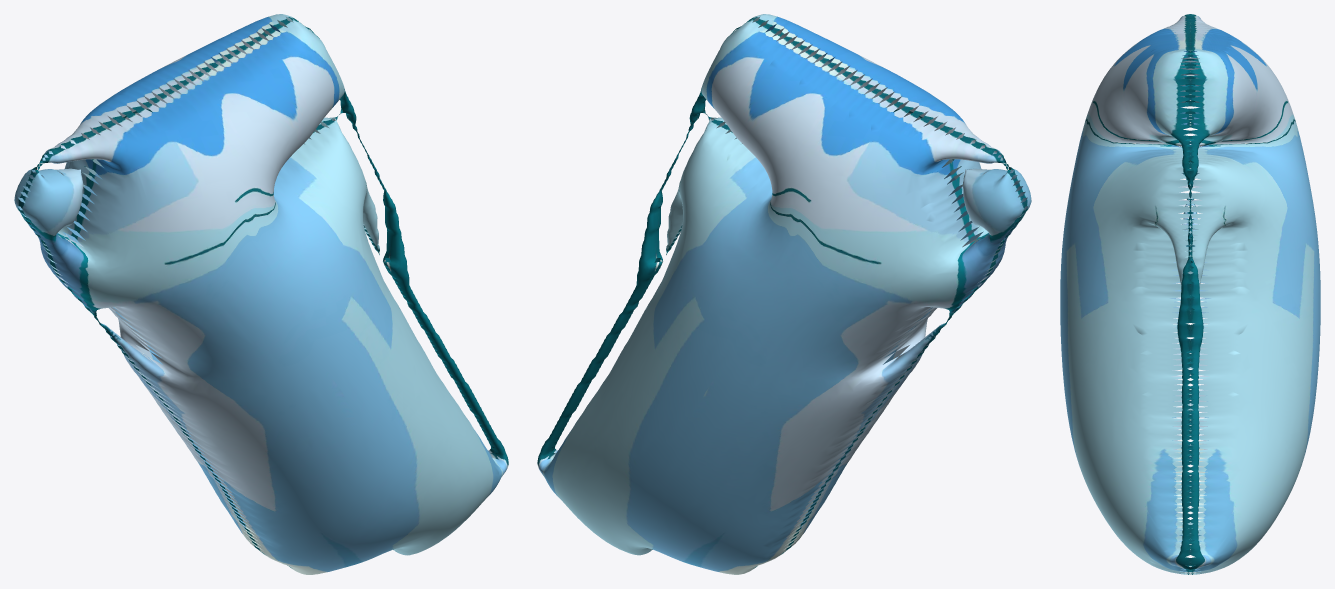
Rendered from leaning_ice_fin.glb.
3 views of the same model, side by side, from view 1: azimuth 30°, elevation 25°; view 2: azimuth 150°, elevation 25°; view 3: azimuth 270°, elevation 25° (orthographic). The views are drawn at different scales.
Visible parts, largest first — view 1: leaning_ice_fin; view 2: leaning_ice_fin; view 3: leaning_ice_fin.
Boxes of the visible parts, left/top/right/bottom form: leaning_ice_fin: left=14, top=14, right=508, bottom=574; leaning_ice_fin: left=537, top=14, right=1031, bottom=574; leaning_ice_fin: left=1060, top=14, right=1320, bottom=574.
Bounding box in the file's own units: 0.9836 × 1.08 × 0.5323.
Materials: 1 (1 with a texture image).
